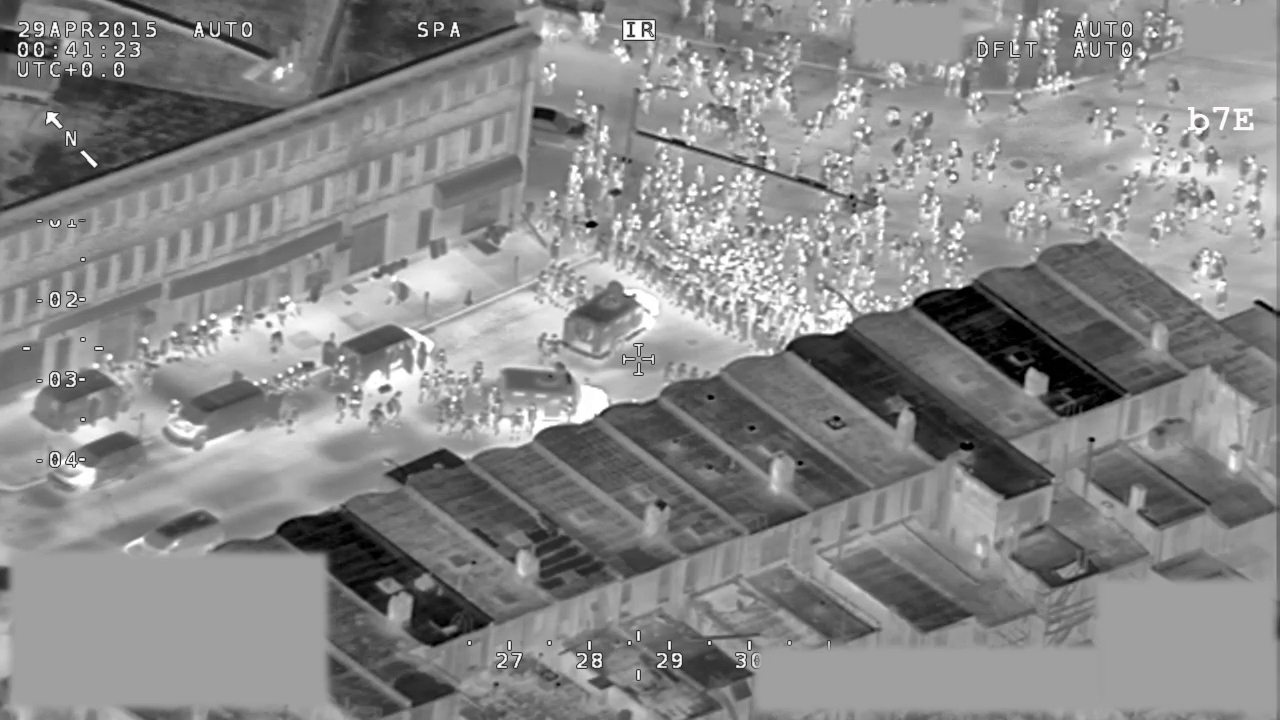vehicle: (319, 320, 440, 393), (161, 376, 272, 454), (559, 280, 662, 359), (43, 430, 150, 504), (26, 363, 135, 435), (491, 362, 611, 426)
